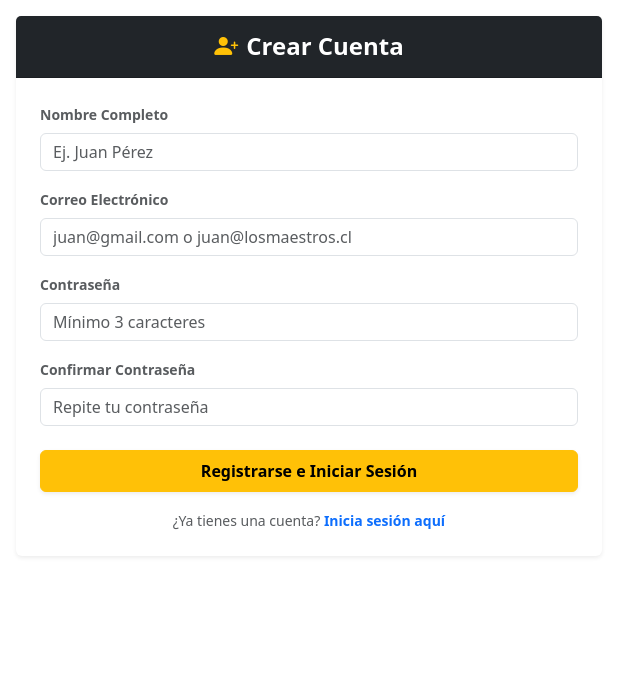
Test: Pruebas Unitarias - Componente Registro › 4. Debe mostrar error si la contraseña tiene menos de 3 caracteres
In the password field with placeholder "Mínimo 3 caracteres": (309, 322) [40,303,578,341], type "12"
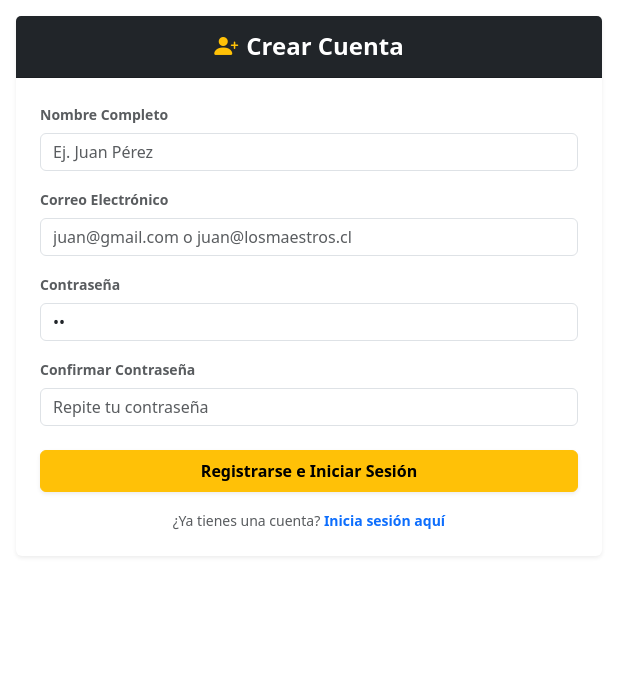
# Presiona el botón para disparar la función 'validarFormulario'
Click the button "Registrarse e Iniciar Sesión": (309, 471) [40,450,578,492]
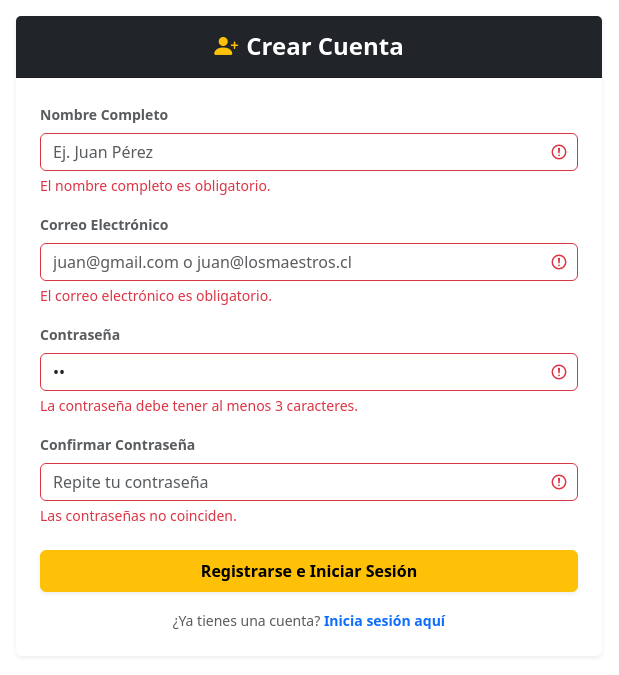
expect the text "La contraseña debe tener al menos 3 caracteres." is shown: met, box [40,396,358,415]
